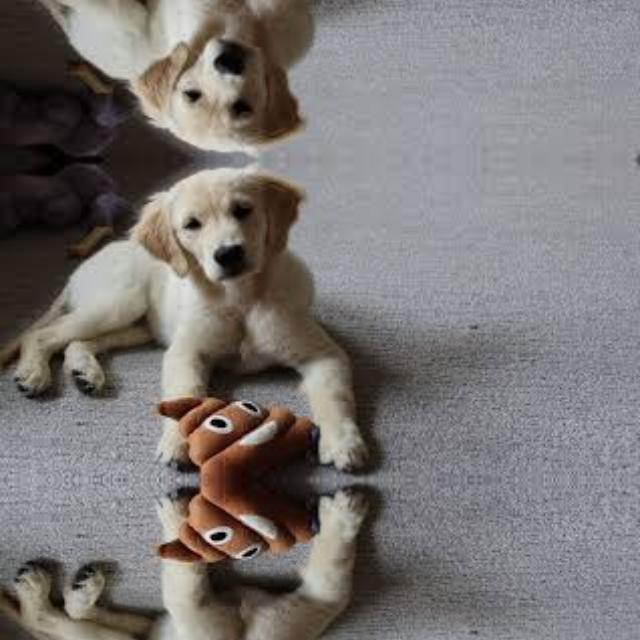dog: (18, 174, 380, 442), (18, 0, 379, 146), (18, 517, 379, 640)
